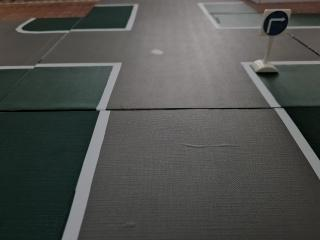right: (257, 2, 290, 39)
